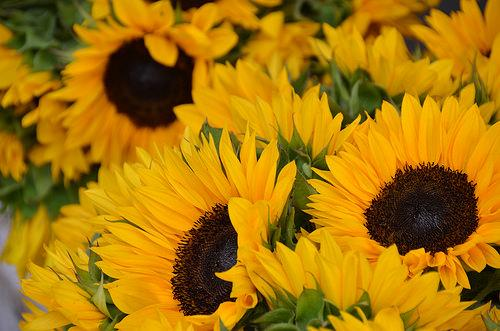sunflower: (84, 126, 298, 331), (309, 97, 500, 271), (60, 0, 243, 154)
